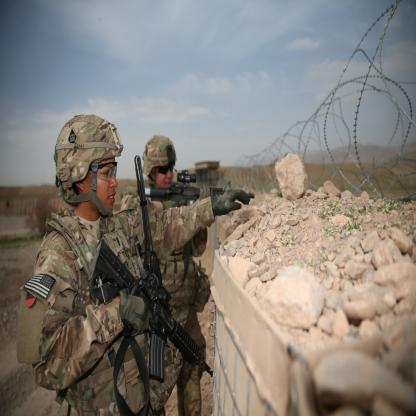Helmet: (51, 121, 122, 226), (144, 131, 177, 183)
